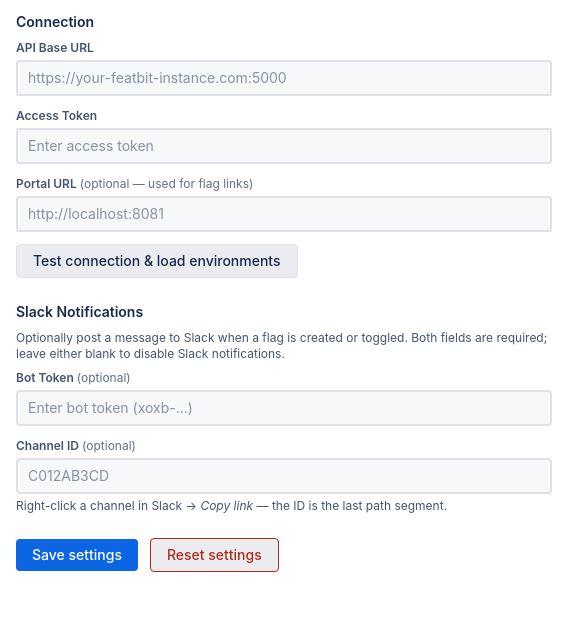
Test: Settings › shows an error toast when fetchEnvironments returns an error
The width and height of the screenshot is (569, 635).
Type "http://featbit.local" into the field with placeholder "https://your-featbit-instance.com:5000" at point(284, 78), box [16,60,552,96]
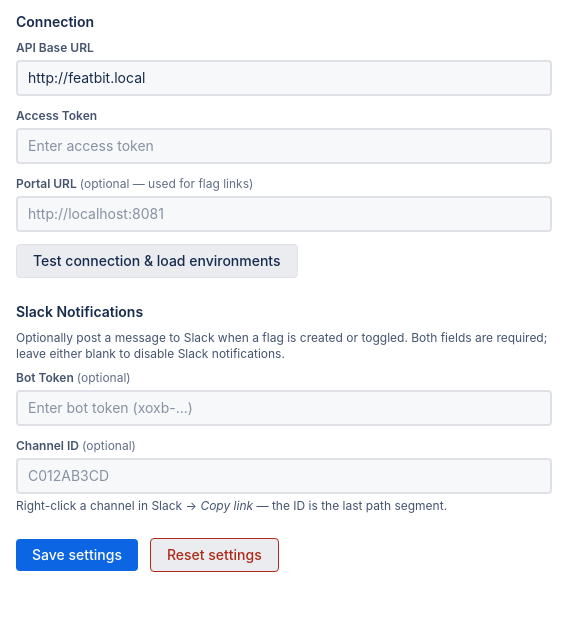
Type "bad-token" into the password field with placeholder "Enter access token" at point(284, 146), box [16,128,552,164]
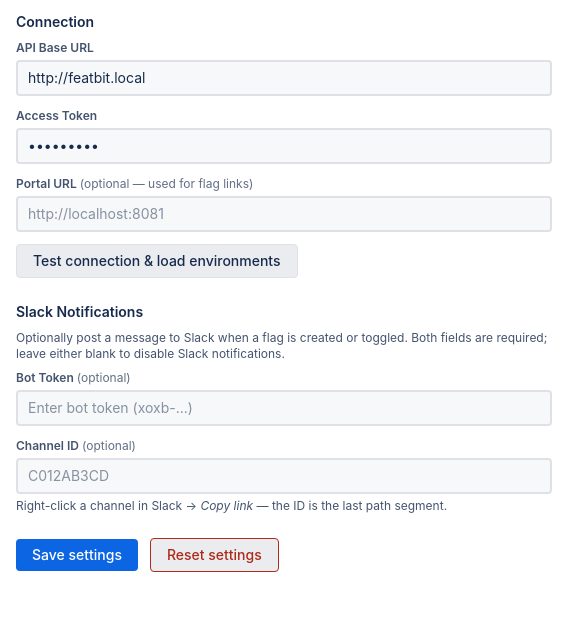
Click the button "Test connection & load environments" at point(157, 261), box [16,244,298,278]
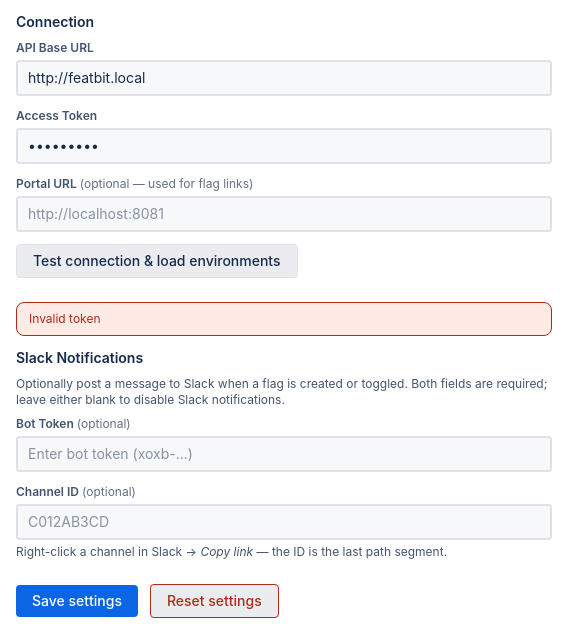
expect the message "Invalid token" is shown: met, box [16,302,552,336]
